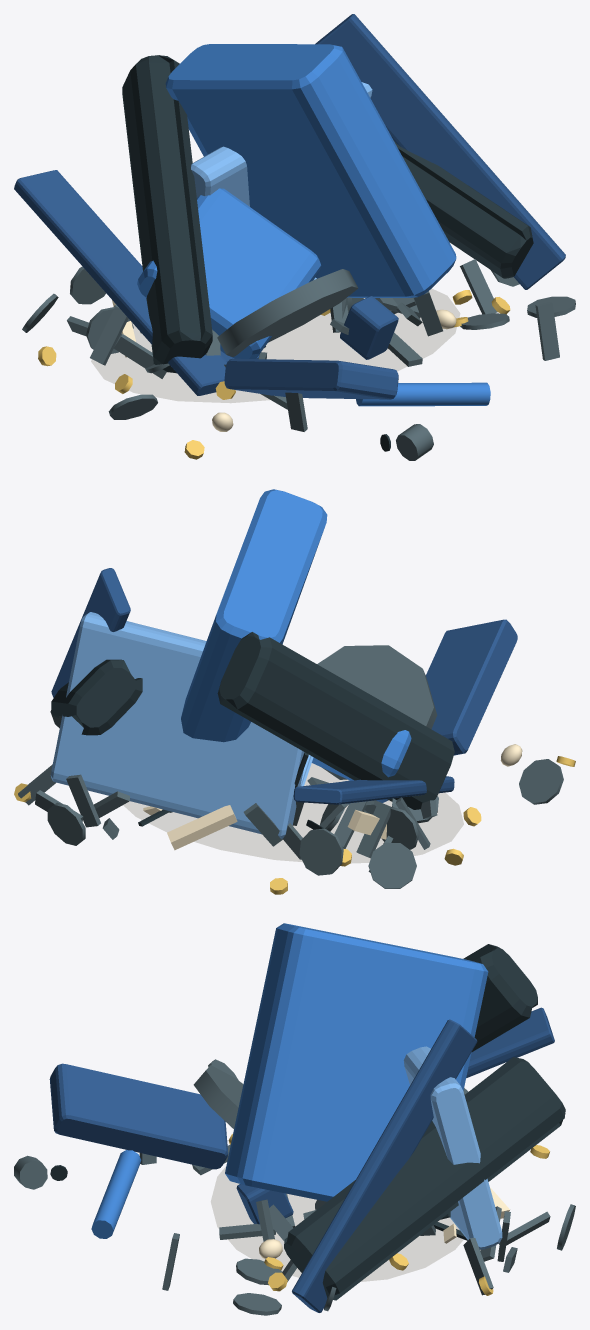
The model's file is tank-blue-broken.glb.
3 views of the same model, one above another, from view 1: azimuth 30°, elevation 25°; view 2: azimuth 150°, elevation 25°; view 3: azimuth 270°, elevation 25° (orthographic). The views are drawn at different scales.
Parts seen in each view (by area): view 1: settled-toy-pieces (×7), impact-mark; view 2: settled-toy-pieces (×7), impact-mark; view 3: settled-toy-pieces (×7), impact-mark.
Boxes of the visible parts, x1,y1,x2,y2 form: settled-toy-pieces (×7): (14, 14, 575, 460); impact-mark: (91, 289, 459, 402); settled-toy-pieces (×7): (14, 489, 575, 894); impact-mark: (123, 763, 463, 862); settled-toy-pieces (×7): (14, 923, 575, 1315); impact-mark: (211, 1167, 462, 1281).
Bounding box in the file's own units: 3.15 × 1.83 × 3.2.
